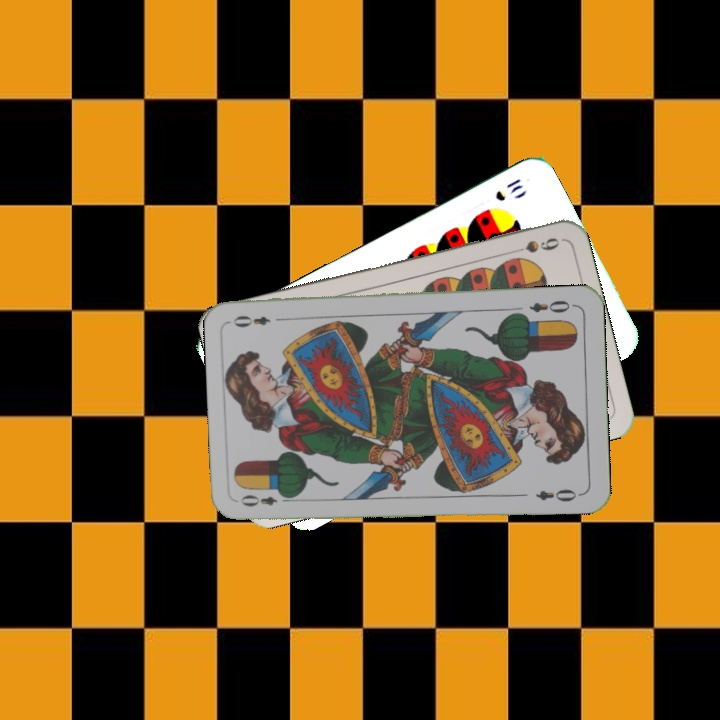EO: (236, 489, 294, 509), (525, 296, 577, 316)
S10: (491, 174, 526, 204)
S9: (504, 233, 562, 257)
